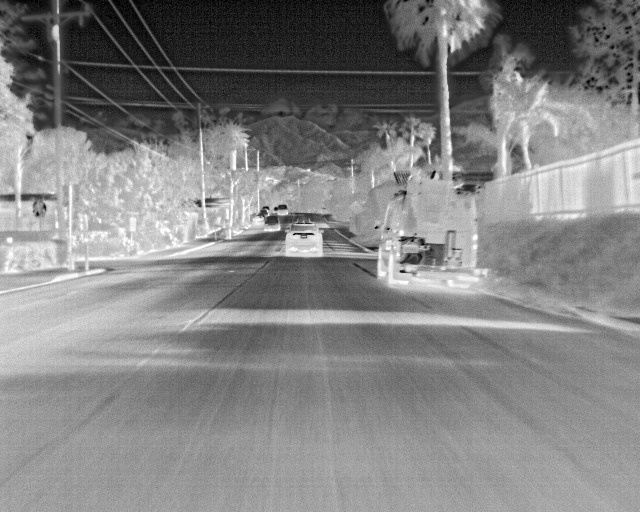vehicle: (374, 174, 484, 297), (286, 224, 324, 259), (263, 215, 280, 233), (273, 204, 291, 218)
